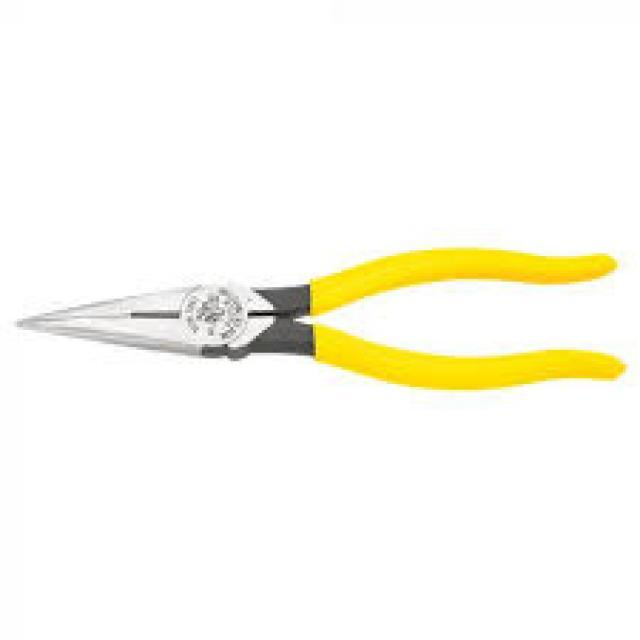pliers: (12, 240, 638, 400)
